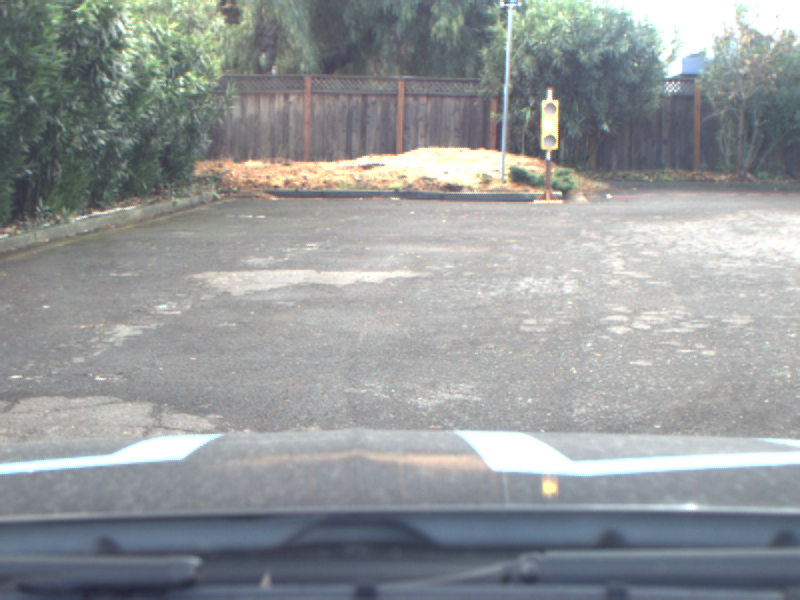Yellow: (541, 99, 559, 150)
